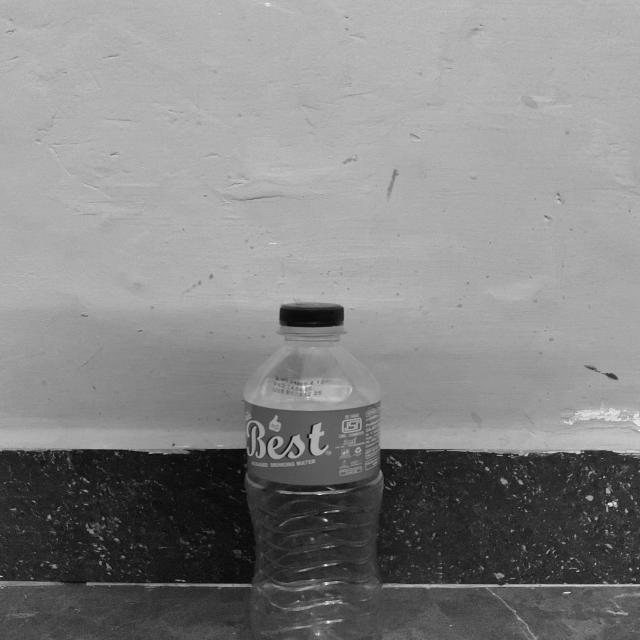Good-cap-Df0S: (276, 302, 348, 336)
